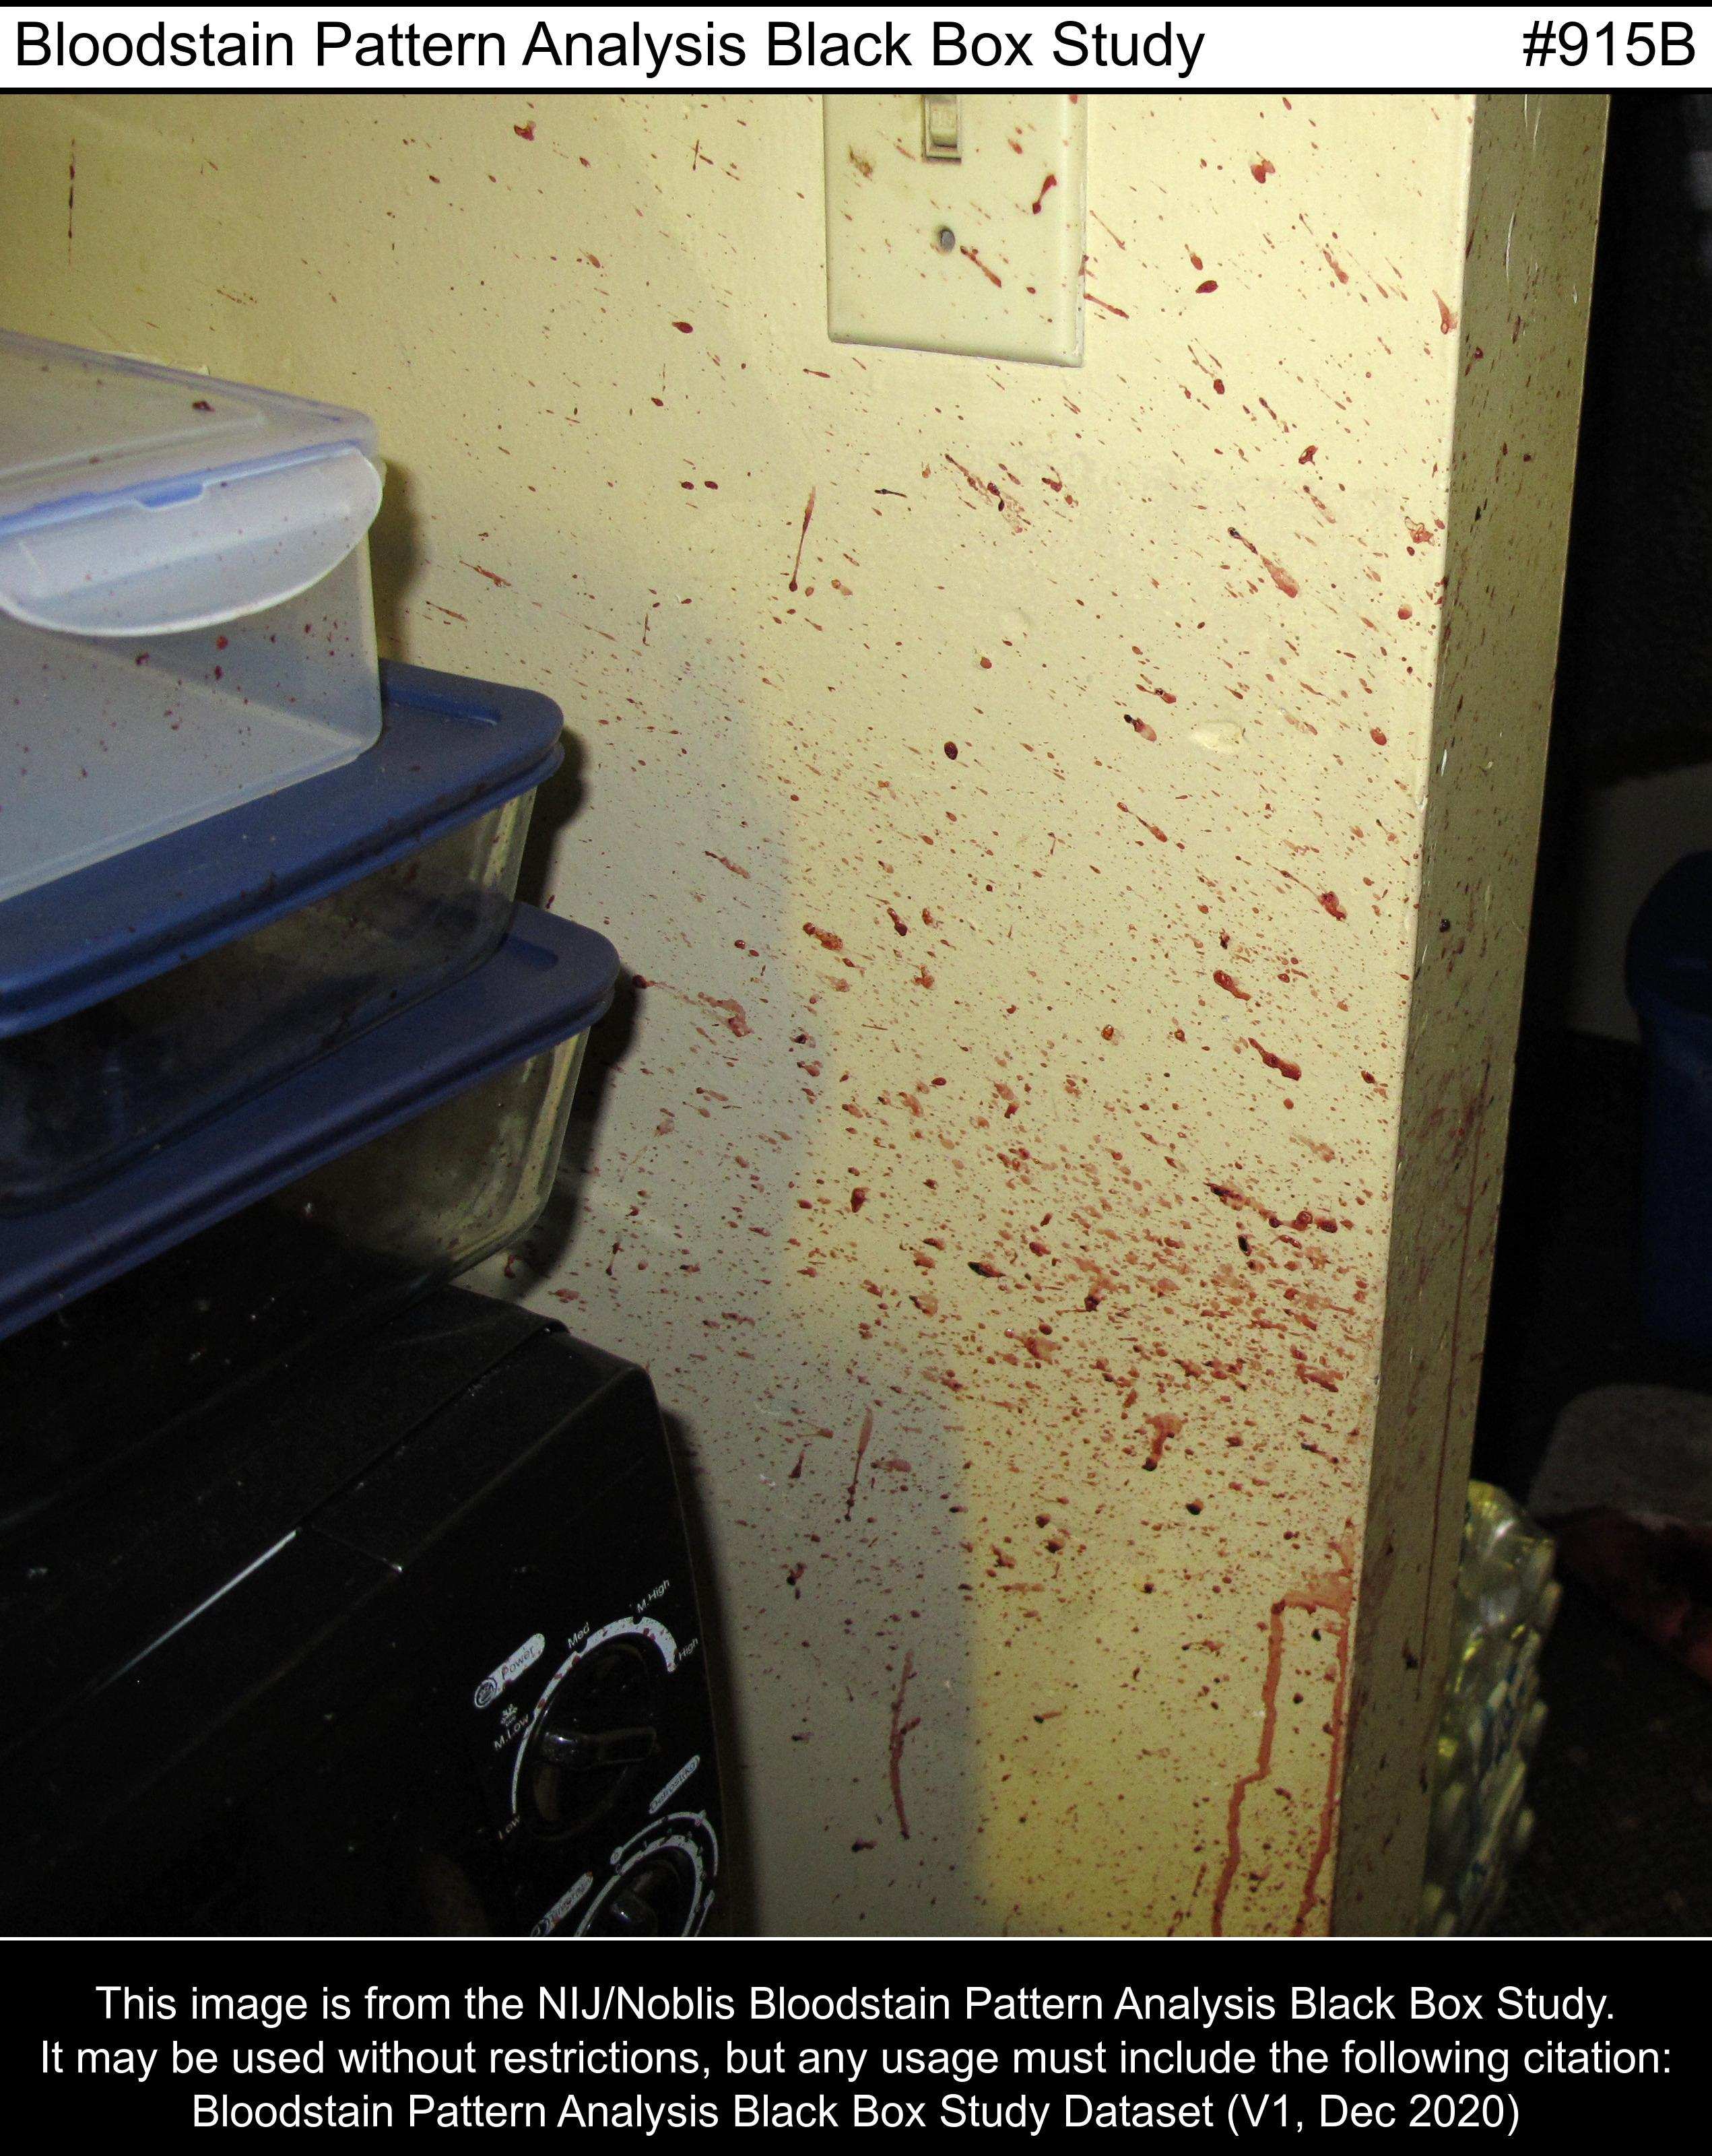Impact: (385, 93, 1449, 1928)
